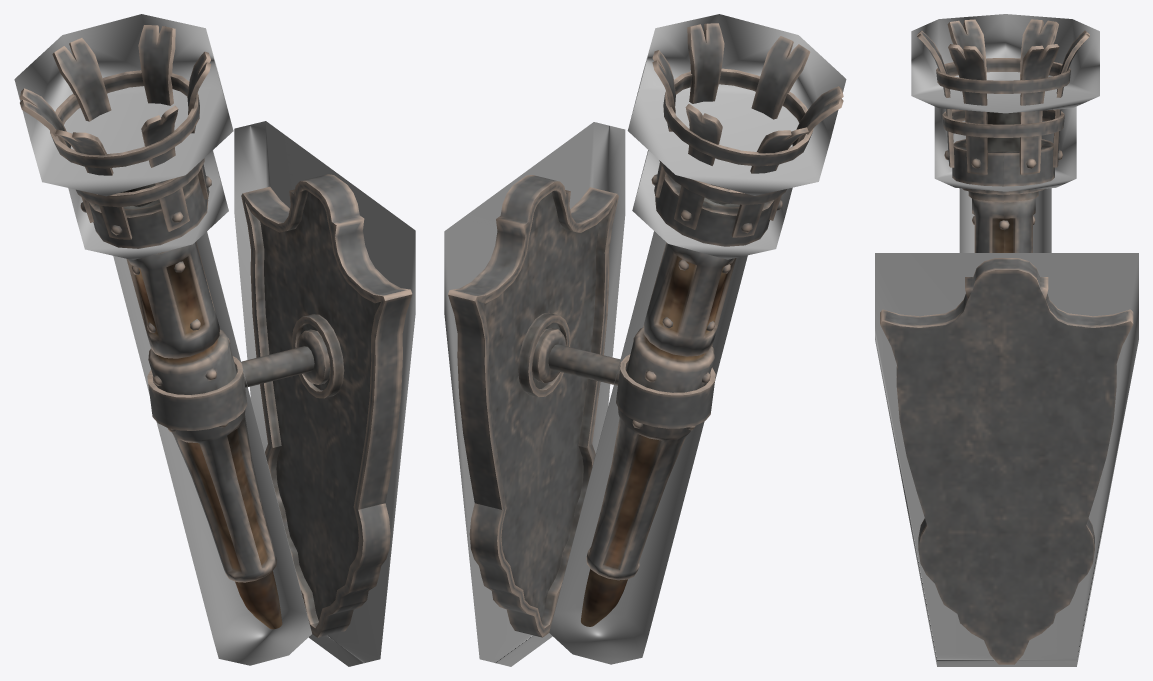
The model's file is SM_Wall_Torch_01a.gltf.
3 renders of one model, left to right at view 1: azimuth 30°, elevation 25°; view 2: azimuth 150°, elevation 25°; view 3: azimuth 270°, elevation 25°, orthographic. The views are drawn at different scales.
Visible parts, largest first — view 1: SM_Wall_Torch_01a_LOD0, SM_Wall_Torch_01a_ConvexHulls; view 2: SM_Wall_Torch_01a_LOD0, SM_Wall_Torch_01a_ConvexHulls; view 3: SM_Wall_Torch_01a_LOD0, SM_Wall_Torch_01a_ConvexHulls.
Boxes of the visible parts, x1,y1,x2,y2 form: SM_Wall_Torch_01a_LOD0: [19, 25, 412, 637]; SM_Wall_Torch_01a_ConvexHulls: [14, 14, 415, 666]; SM_Wall_Torch_01a_LOD0: [448, 23, 843, 637]; SM_Wall_Torch_01a_ConvexHulls: [444, 14, 846, 666]; SM_Wall_Torch_01a_LOD0: [880, 19, 1133, 664]; SM_Wall_Torch_01a_ConvexHulls: [875, 14, 1138, 666].
Size of what is drawn, in the model's own units: 0.618 by 1.19 by 0.5077.
Materials: 2 (1 with a texture image).
